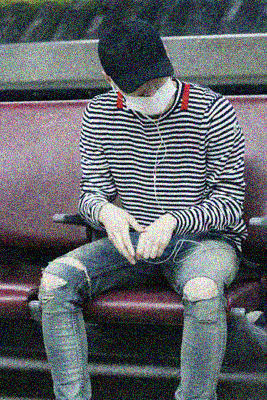mask_weared_incorrect: (117, 77, 179, 117)
